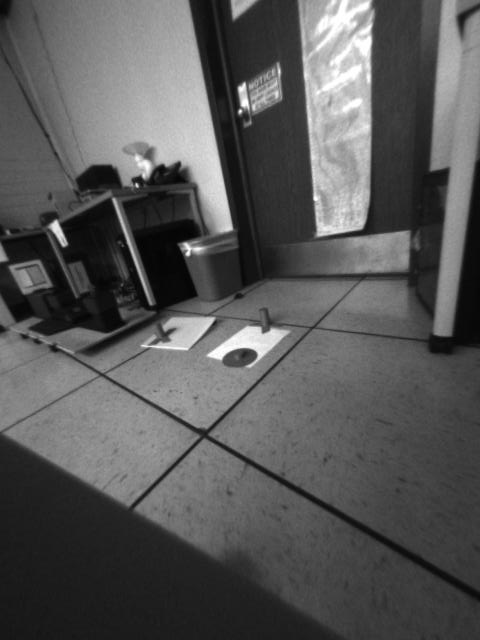X: (247, 306, 282, 335), (148, 322, 178, 346)
